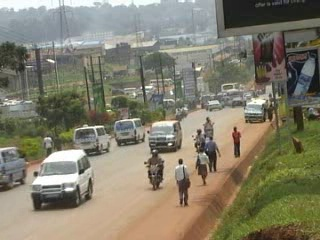Car: (28, 145, 95, 214), (205, 98, 223, 114), (232, 95, 247, 108)
Motorcycle: (141, 149, 168, 191), (188, 126, 209, 159), (200, 113, 216, 141), (172, 106, 187, 123)
